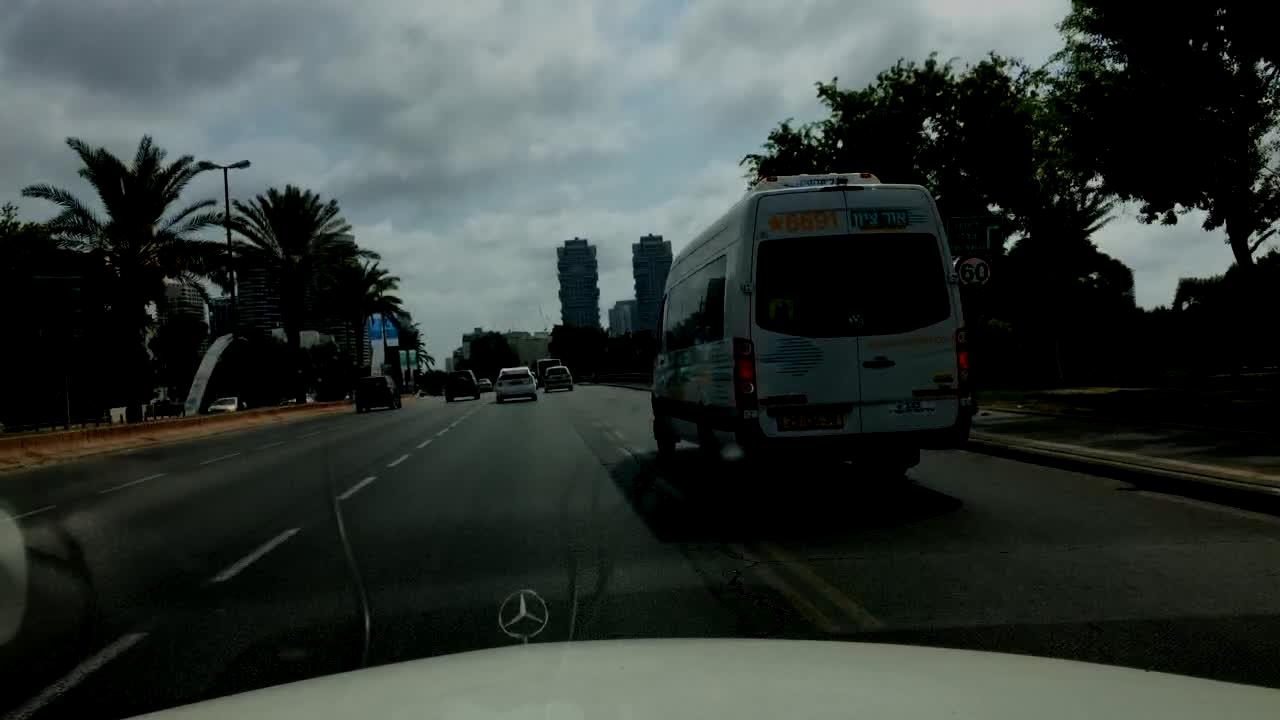Mercedes: (476, 556, 581, 654)
Volkswagen: (844, 314, 867, 335)
